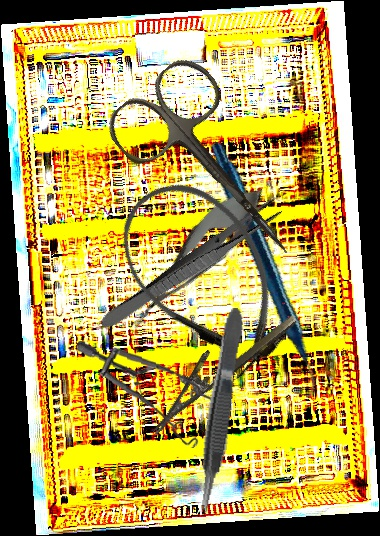Cannula: (98, 159, 313, 395)
Dressing Forceps: (97, 194, 287, 336)
Handpiece: (157, 140, 368, 400)
Iris Scissors: (99, 49, 330, 292)
Micro Scissor: (116, 171, 277, 343)
Needle Holder: (134, 295, 299, 436)
Speculum: (70, 340, 225, 451)
Tissue Forceps: (188, 306, 252, 518)
